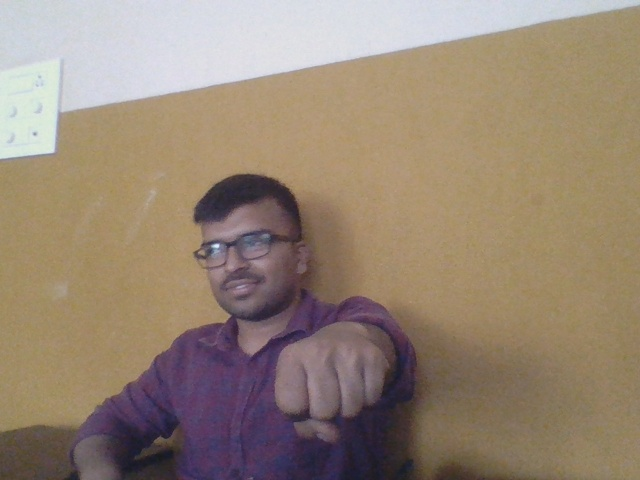Yes: (258, 322, 407, 446)
